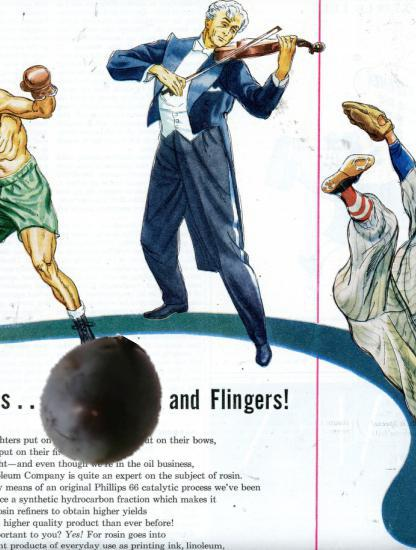Plum: (35, 334, 170, 469)
